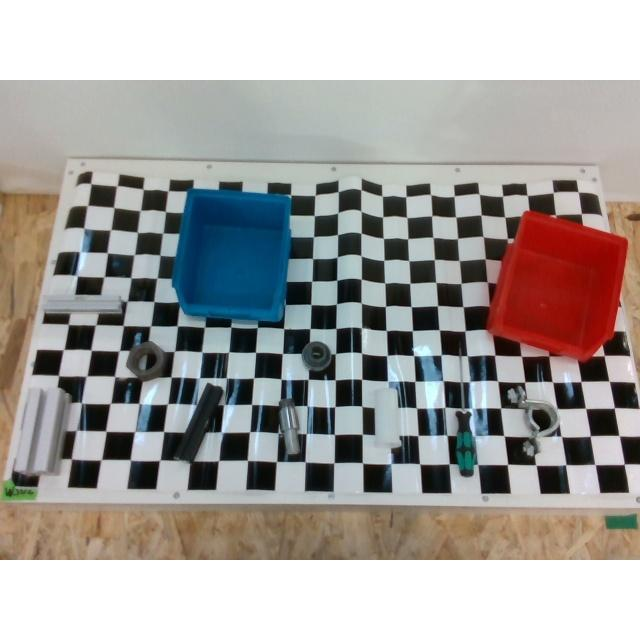Axis2: (278, 399, 300, 455)
Bearing2: (302, 341, 331, 371)
F20_20_B: (172, 382, 224, 466)
F20_20_G: (38, 294, 122, 314)
Housing: (508, 385, 560, 457)
M30: (126, 342, 166, 381)
S40_40_G: (14, 387, 70, 477)
Screwdriver: (454, 342, 478, 478)
Spacer: (374, 387, 402, 448)
container_box_blue: (170, 186, 290, 322)
container_box_red: (487, 210, 629, 362)
